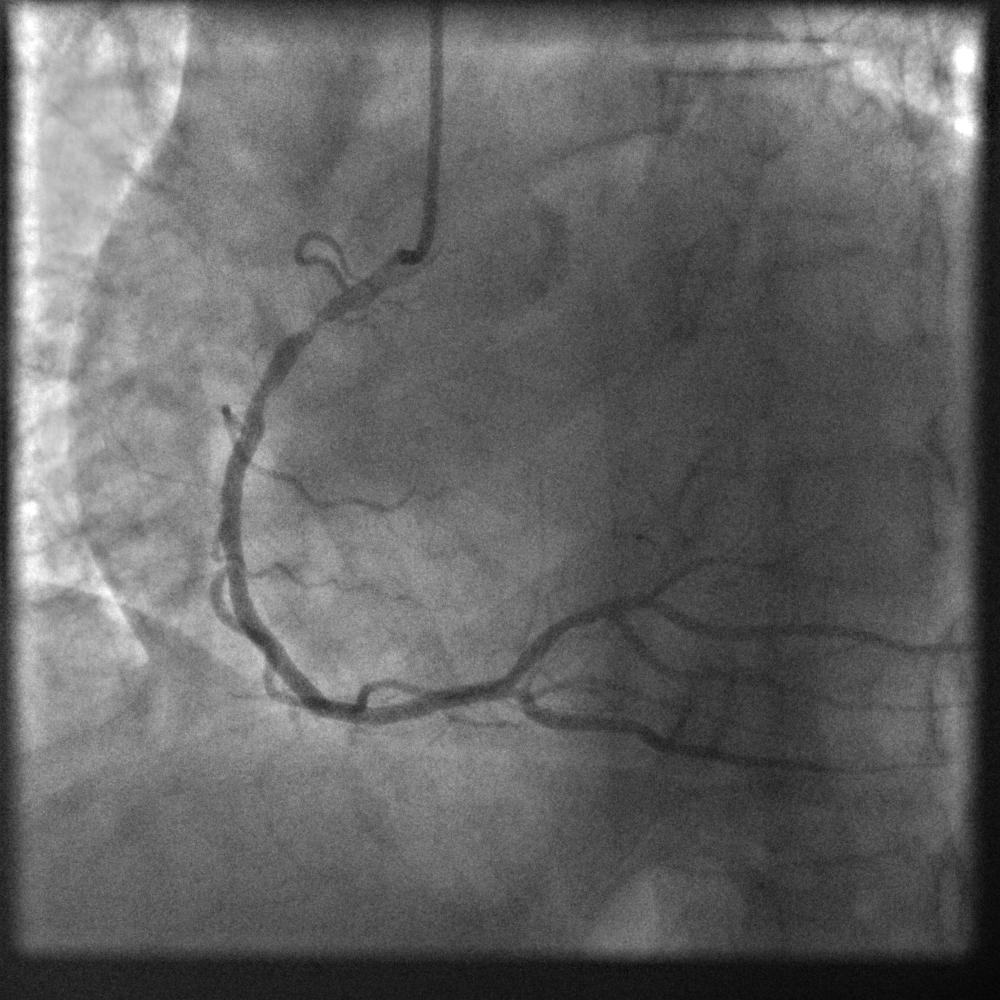Stenosis: (289, 296, 338, 351)
